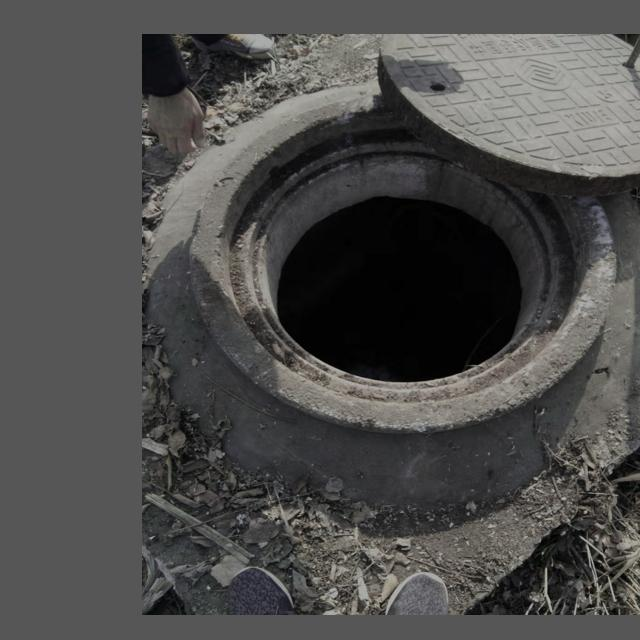uncovered: (187, 34, 637, 430)
